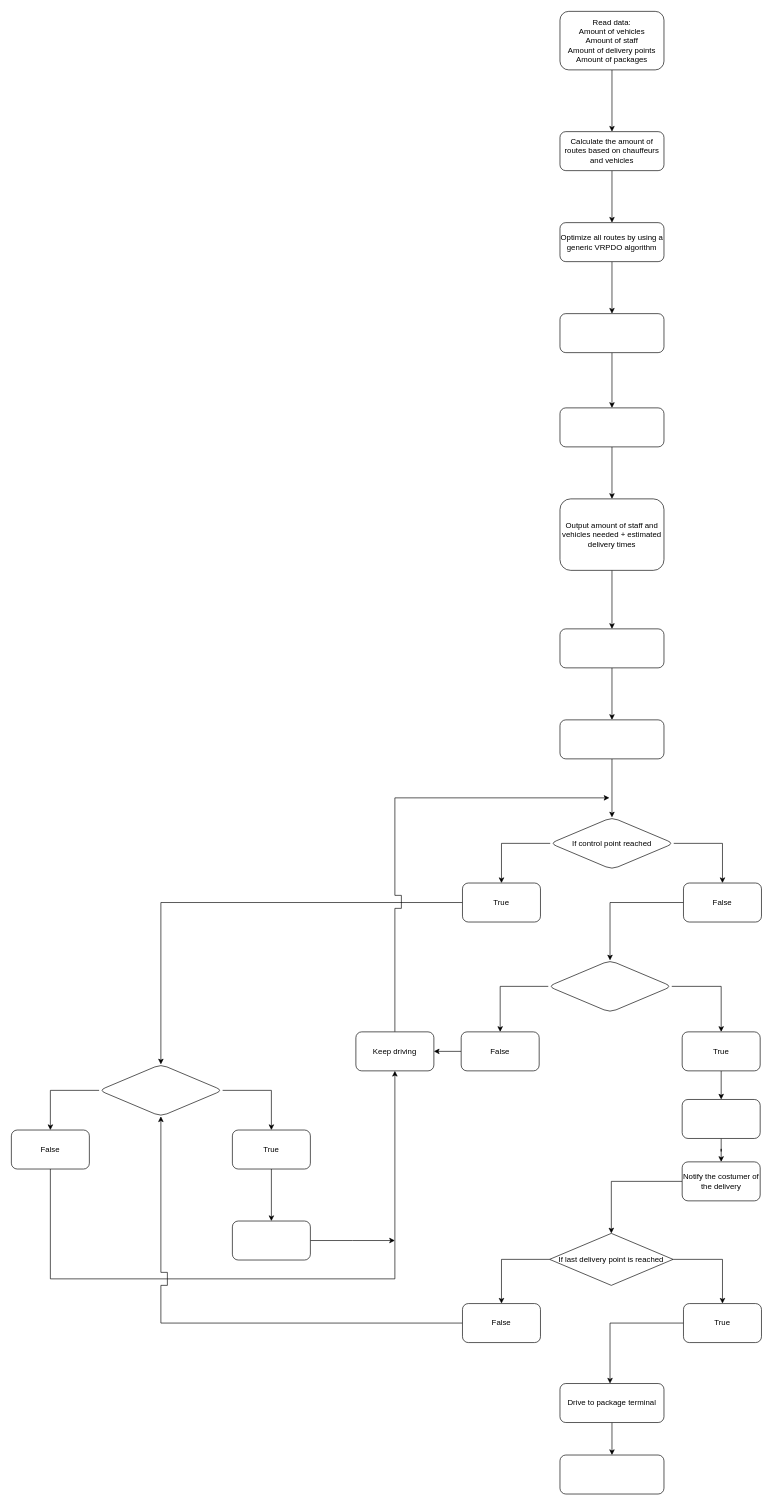
The diagram is 773 pixels wide and 1505 high, and some of its shapes have lost their labels. The box of each missing label's shape, as (x1, y1, x2, y2) in pixels:
Calculate the amount of time the delivery will take: (559, 407, 664, 447)
Create three control points between every delivery point: (559, 313, 664, 353)
Deliver the packages: (682, 1099, 760, 1138)
EXIT PROGRAM: (559, 1454, 664, 1494)
Go to next delivery point: (559, 719, 664, 759)
If delivery point is reached: (548, 960, 672, 1012)
If the delivery is delayed: (98, 1064, 223, 1116)
Notify costumers of the expected delivery time: (559, 628, 664, 668)
Update delivery time for the costumers: (232, 1220, 310, 1260)
